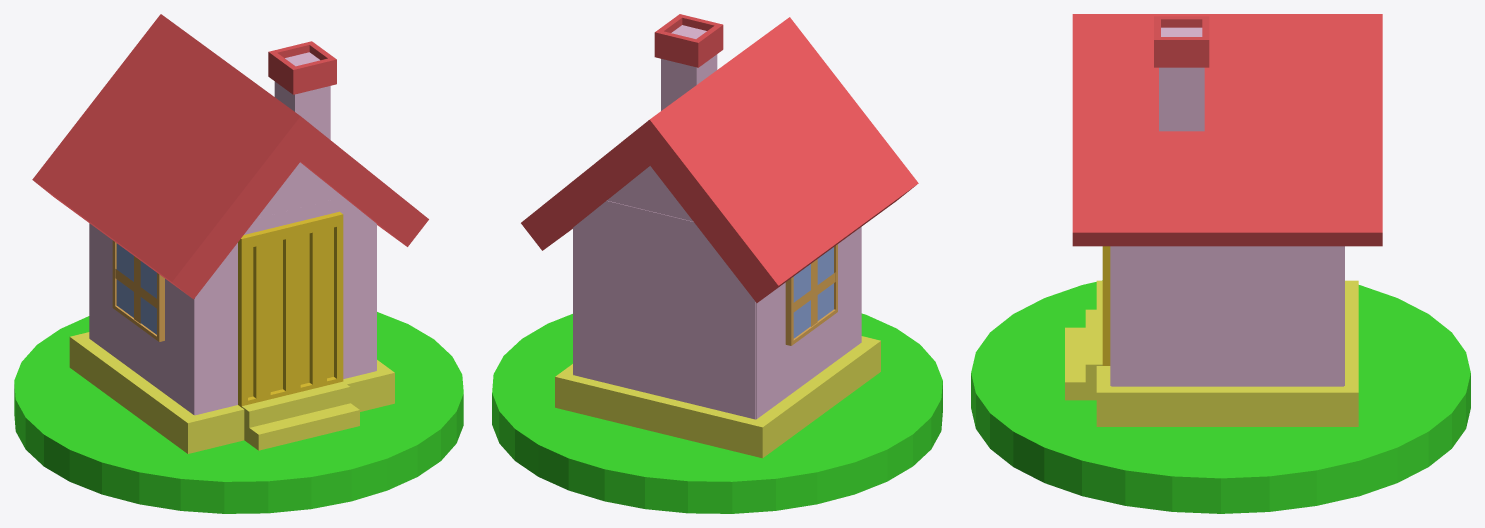
The model's file is House.fbx.
3 renders of one model, left to right at view 1: azimuth 30°, elevation 25°; view 2: azimuth 150°, elevation 25°; view 3: azimuth 270°, elevation 25°, orthographic. The views are drawn at different scales.
Visible parts, largest first — view 1: Cube.002, Цилиндр, Куб.007, Куб.003, Cube, Куб.002, Cube.003, Куб.008, Куб.005, Окружность, Куб.004, Плоскость.001 (+1 smaller); view 2: Цилиндр, Cube.002, Куб.001, Cube, Куб.002, Cube.003, Куб.005, Окружность.001, Куб.004, Плоскость.001, Куб.006; view 3: Cube.003, Цилиндр, Куб, Cube, Куб.004, Куб.008, Куб.005, Куб.007.
Boxes of the visible parts, x1,y1,x2,y2 form: Cube.002: [32, 14, 321, 299]; Цилиндр: [14, 312, 463, 513]; Куб.007: [238, 211, 343, 407]; Куб.003: [194, 197, 376, 415]; Cube: [69, 332, 394, 453]; Куб.002: [89, 223, 194, 414]; Cube.003: [161, 14, 428, 246]; Куб.008: [241, 381, 359, 450]; Куб.005: [268, 41, 336, 94]; Окружность: [257, 162, 343, 218]; Куб.004: [274, 52, 330, 139]; Плоскость.001: [116, 243, 156, 334]; Цилиндр: [492, 313, 942, 513]; Cube.002: [632, 17, 918, 302]; Куб.001: [573, 200, 755, 419]; Cube: [555, 336, 880, 458]; Куб.002: [756, 227, 861, 419]; Cube.003: [521, 17, 789, 250]; Куб.005: [654, 14, 723, 67]; Окружность.001: [607, 166, 693, 221]; Куб.004: [661, 25, 717, 110]; Плоскость.001: [793, 247, 833, 338]; Куб.006: [785, 244, 837, 345]; Cube.003: [1072, 14, 1382, 246]; Цилиндр: [971, 280, 1470, 513]; Куб: [1111, 246, 1343, 386]; Cube: [1096, 280, 1358, 426]; Куб.004: [1159, 27, 1204, 131]; Куб.008: [1065, 309, 1102, 400]; Куб.005: [1154, 16, 1209, 67]; Куб.007: [1102, 246, 1110, 365].
Size of the model in its own units: 2547 by 2277 by 2547.
